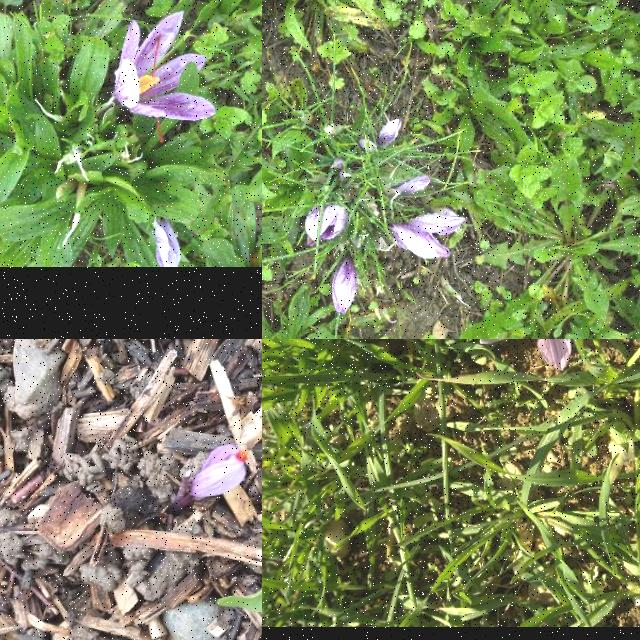flower: (114, 12, 218, 144), (468, 339, 619, 372), (188, 444, 246, 502), (304, 205, 350, 243), (331, 258, 357, 312), (378, 119, 404, 149), (395, 177, 429, 195)
overlap: (390, 210, 466, 258)
